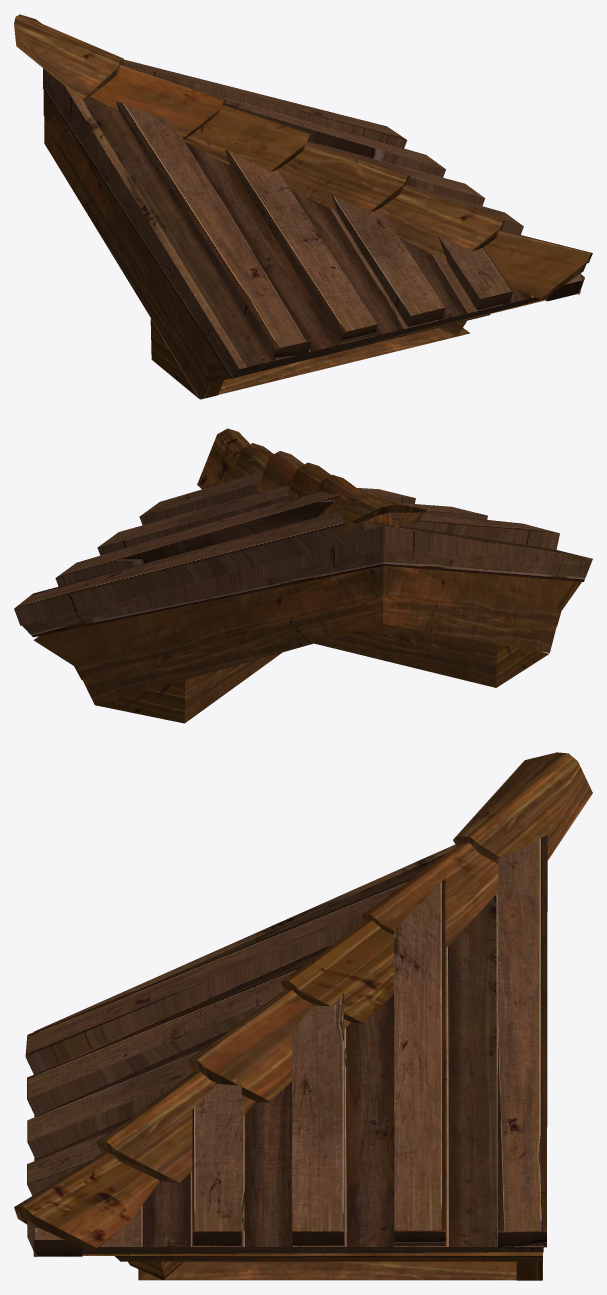
The picture shows the model from 3 angles, top to bottom: view 1: azimuth 30°, elevation 25°; view 2: azimuth 150°, elevation 25°; view 3: azimuth 270°, elevation 25°; orthographic projection. The views are drawn at different scales.
Visible parts, largest first — view 1: SM_BB_T2_Roof_Med_Hip_Shallow_LOD0; view 2: SM_BB_T2_Roof_Med_Hip_Shallow_LOD0; view 3: SM_BB_T2_Roof_Med_Hip_Shallow_LOD0.
Boxes of the visible parts, left/top/right/bottom form: SM_BB_T2_Roof_Med_Hip_Shallow_LOD0: left=14, top=14, right=592, bottom=399; SM_BB_T2_Roof_Med_Hip_Shallow_LOD0: left=14, top=428, right=592, bottom=723; SM_BB_T2_Roof_Med_Hip_Shallow_LOD0: left=14, top=752, right=592, bottom=1280.
Size of the model in its own units: 2.16 by 1.42 by 2.16.
Materials: 2 (2 with a texture image).
